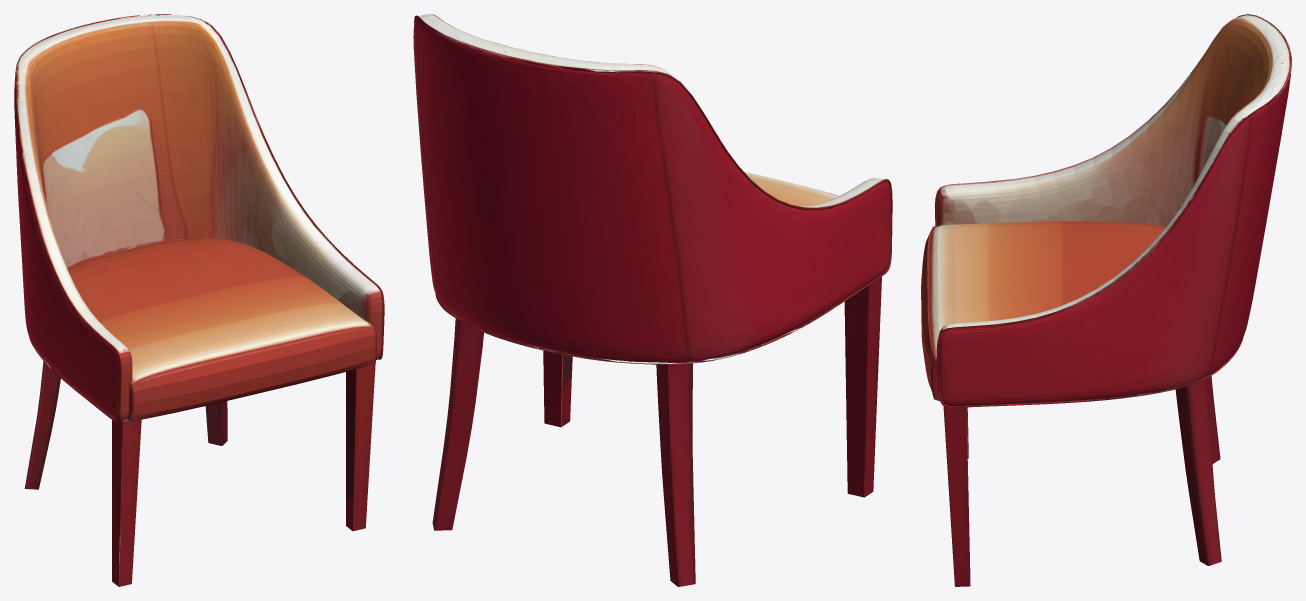
Rendered from edited_mesh.glb.
3 renders of one model, left to right at view 1: azimuth 30°, elevation 25°; view 2: azimuth 150°, elevation 25°; view 3: azimuth 270°, elevation 25°, orthographic. The views are drawn at different scales.
Parts seen in each view (by area): view 1: solid_001_wire; view 2: solid_001_wire; view 3: solid_001_wire.
Boxes of the visible parts, x1,y1,x2,y2 form: solid_001_wire: (14,14,384,586); solid_001_wire: (413,14,892,586); solid_001_wire: (921,14,1291,586).
Bounding box in the file's own units: 0.9742 × 1.47 × 1.07.
1 material, 1 textured.
